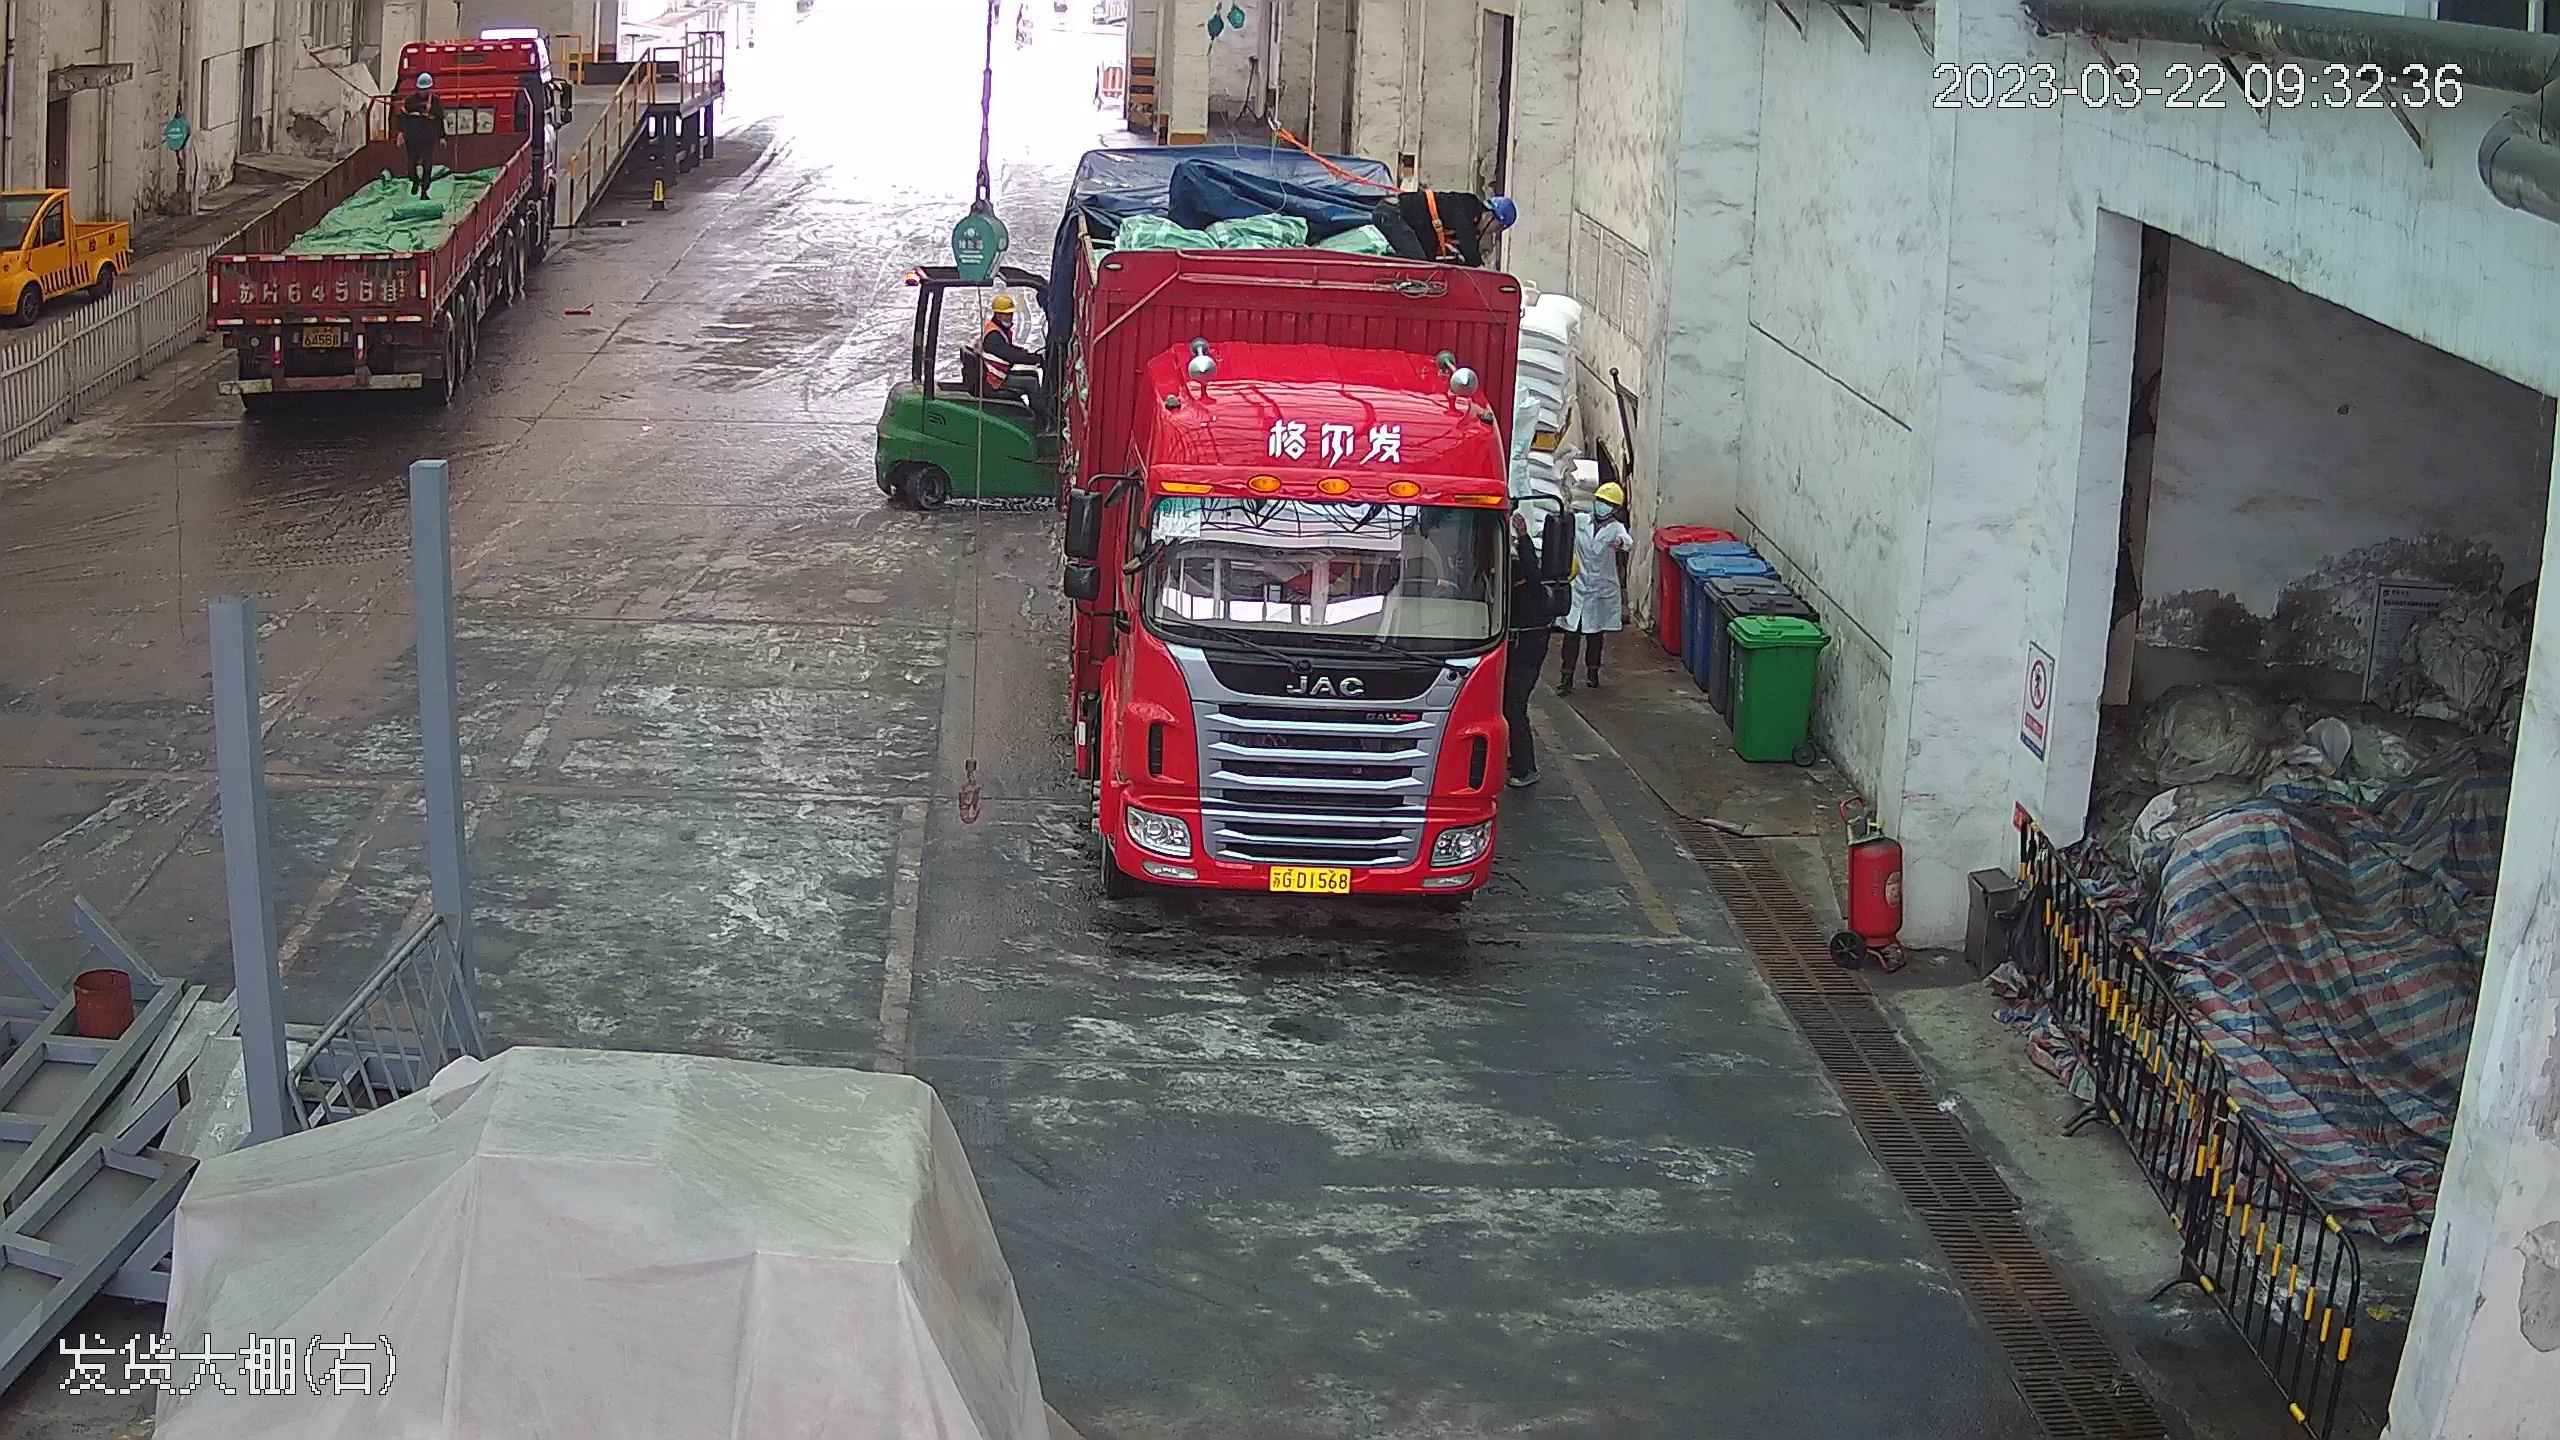belt: (407, 91, 437, 120)
head: (977, 293, 1025, 351), (402, 72, 441, 112)
helmet: (1590, 476, 1626, 510), (987, 292, 1015, 314), (416, 69, 432, 85)
people: (1501, 508, 1579, 787), (1552, 461, 1637, 704), (970, 292, 1060, 430), (390, 72, 444, 175)
truck: (1043, 71, 1559, 925), (189, 21, 584, 410)
